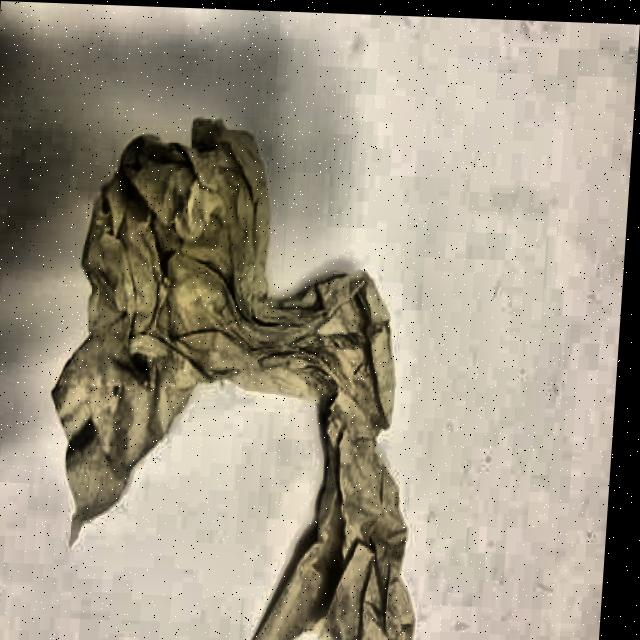trash: (32, 108, 459, 640)
